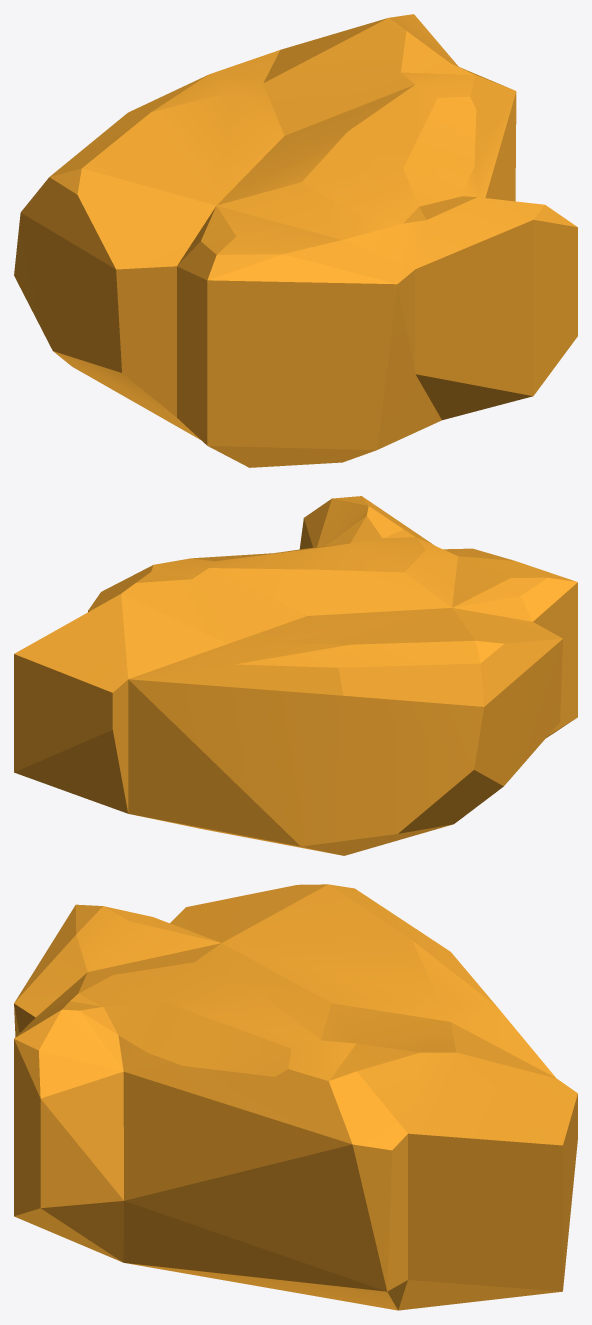
File: SM_Iceberg_Tiny_F_Plane.fbx
The picture shows the model from 3 angles, top to bottom: view 1: azimuth 30°, elevation 25°; view 2: azimuth 150°, elevation 25°; view 3: azimuth 270°, elevation 25°; orthographic projection. The views are drawn at different scales.
Parts seen in each view (by area): view 1: iceberg-tiny-f-plane; view 2: iceberg-tiny-f-plane; view 3: iceberg-tiny-f-plane.
Part boxes in pixels (x1,y1,x2,y2): iceberg-tiny-f-plane: (14, 14, 577, 467); iceberg-tiny-f-plane: (14, 496, 577, 855); iceberg-tiny-f-plane: (14, 884, 577, 1310).
Size of the model in its own units: 1.19 by 0.7554 by 1.19.
